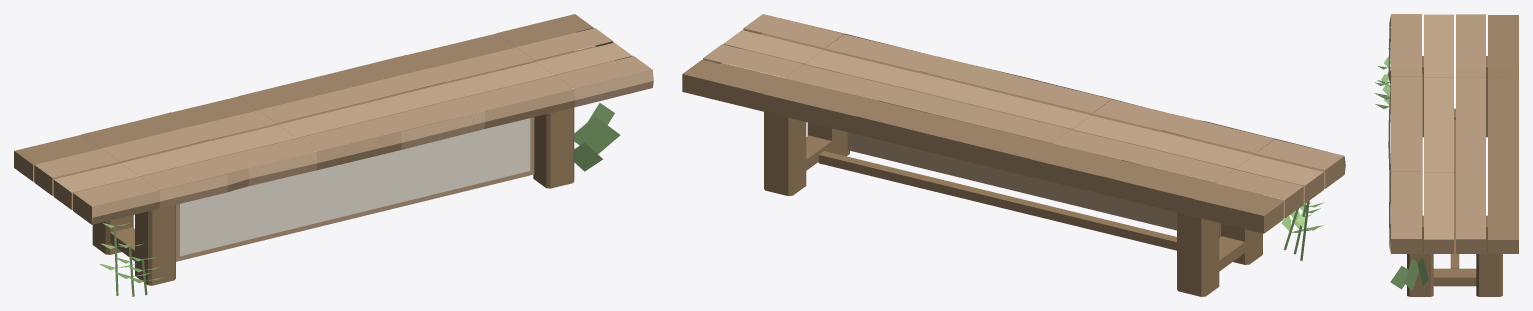
Rendered from greenhouse_table_zero.glb.
3 renders of one model, left to right at view 1: azimuth 30°, elevation 25°; view 2: azimuth 150°, elevation 25°; view 3: azimuth 270°, elevation 25°, orthographic. The views are drawn at different scales.
Parts seen in each view (by area): view 1: Greenhouse_Table_TopZero; view 2: Greenhouse_Table_TopZero; view 3: Greenhouse_Table_TopZero.
Part boxes in pixels (x1,y1,x2,y2): Greenhouse_Table_TopZero: (14, 14, 653, 296); Greenhouse_Table_TopZero: (682, 14, 1345, 296); Greenhouse_Table_TopZero: (1374, 14, 1518, 296).
Bounding box in the file's own units: 10 × 1.76 × 2.72.
